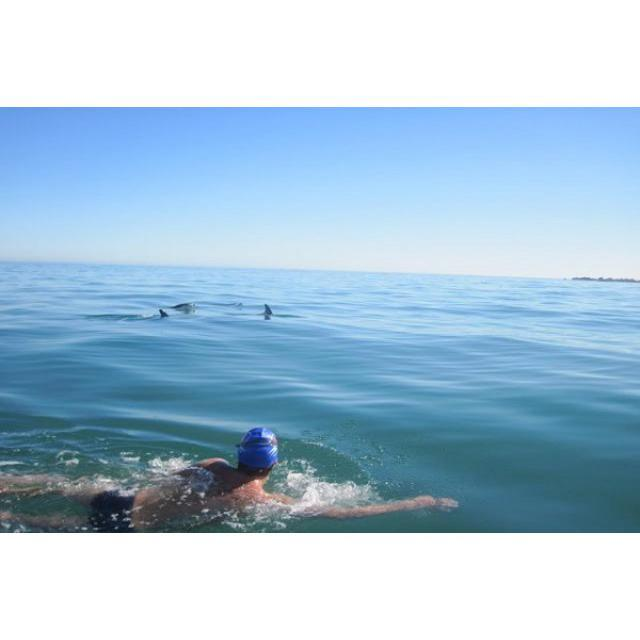human: (12, 427, 459, 531)
